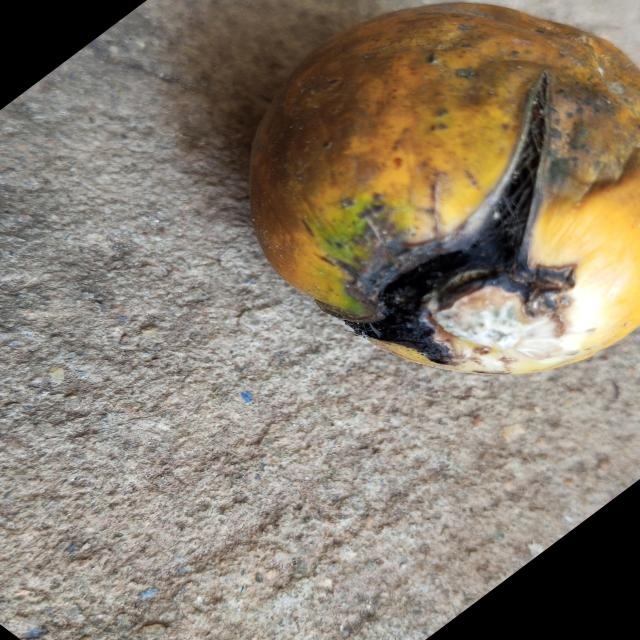damaged: (248, 2, 640, 378)
